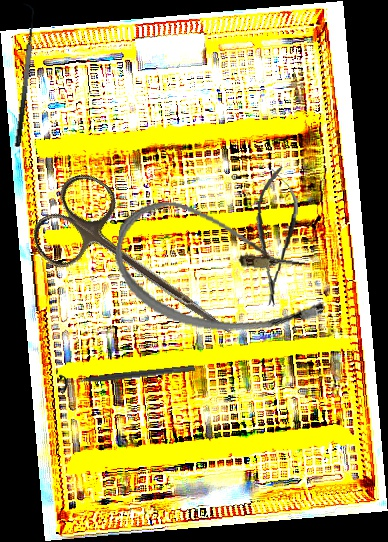Cannula: (106, 193, 337, 347)
Fixation Ring: (59, 357, 196, 396)
Iris Scissors: (23, 165, 261, 369)
Micro Scissor: (248, 163, 302, 310)
Spatula Surgical: (3, 2, 41, 148)
